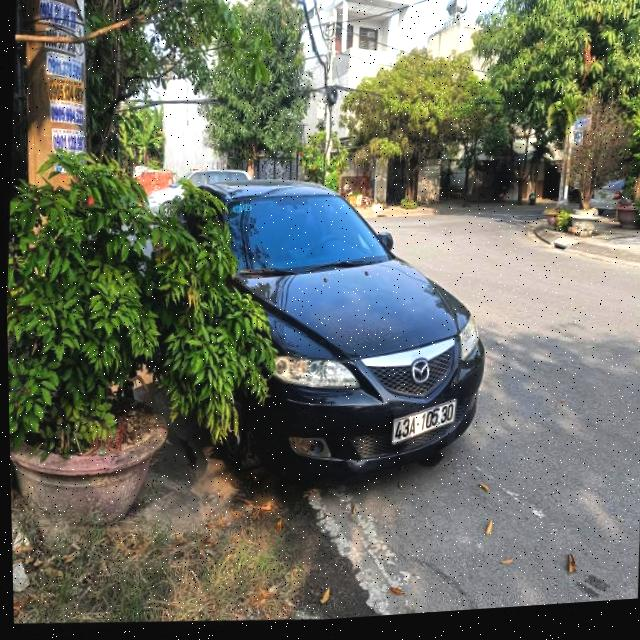car: (214, 158, 489, 492)
plate: (389, 396, 463, 451)
